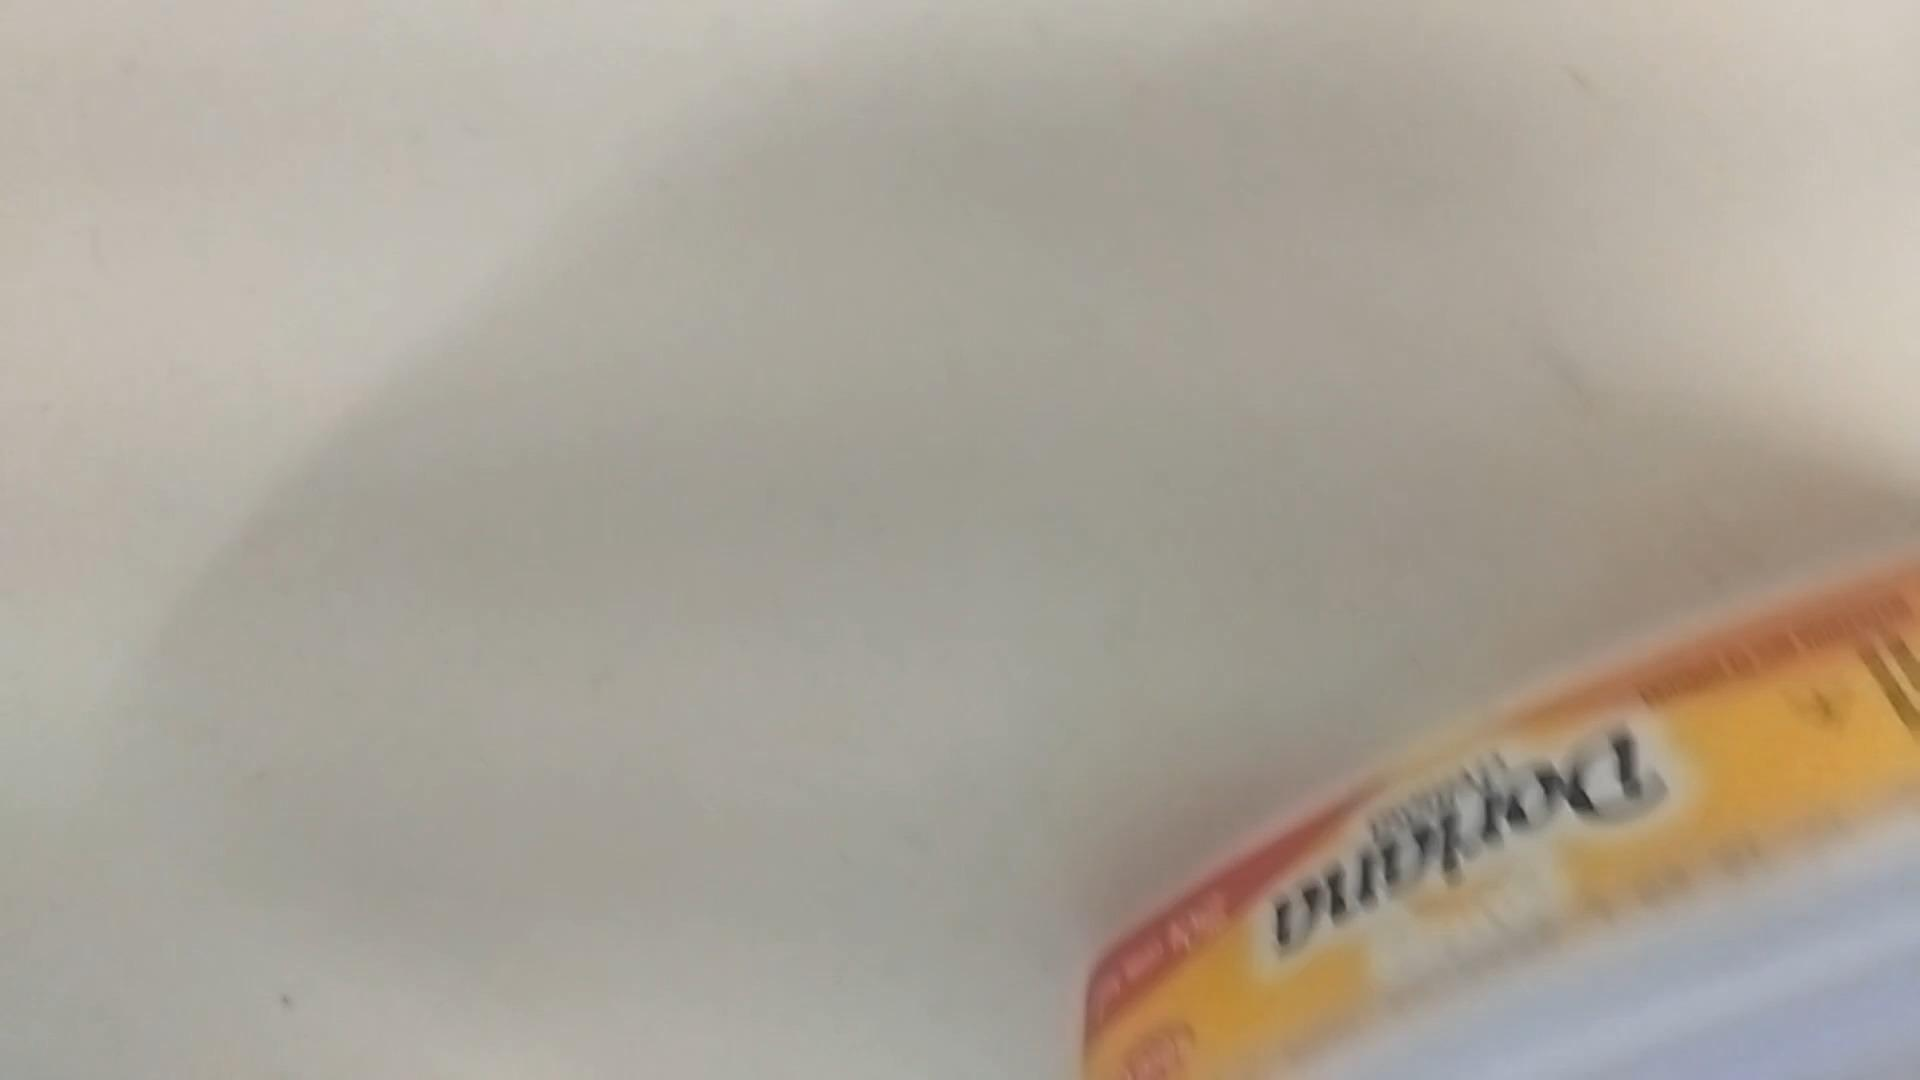butter: (1080, 542, 1920, 1080)
